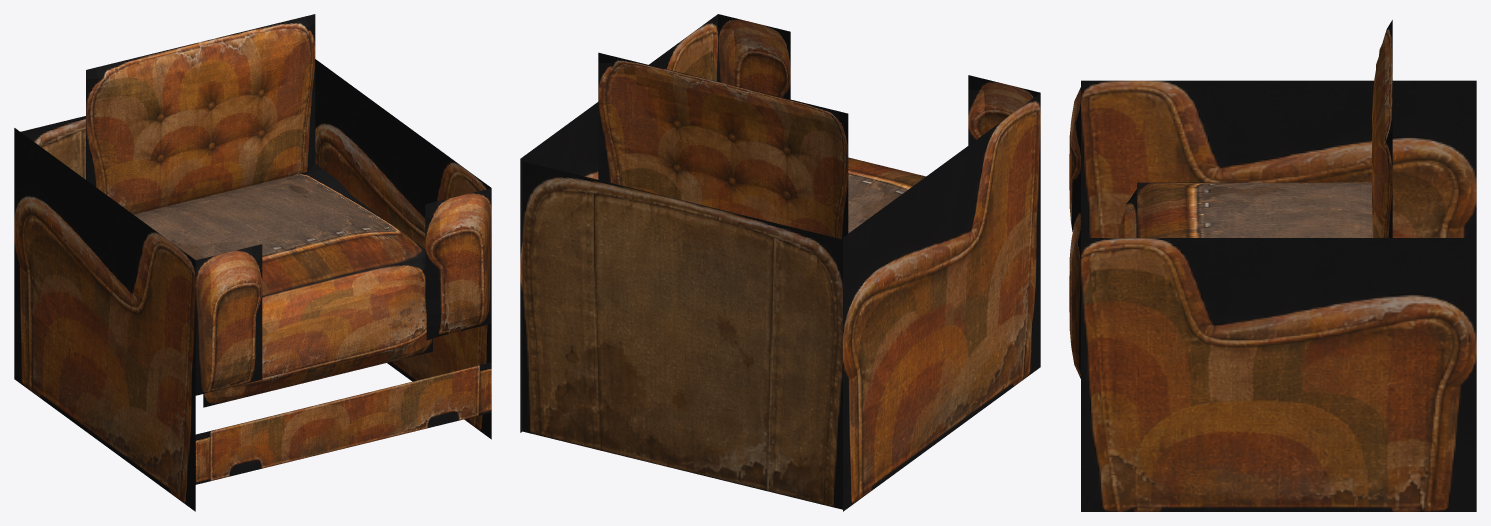
The model's file is bench_b_armchair.glb.
3 renders of one model, left to right at view 1: azimuth 30°, elevation 25°; view 2: azimuth 150°, elevation 25°; view 3: azimuth 270°, elevation 25°, orthographic. The views are drawn at different scales.
Parts seen in each view (by area): view 1: bench_b_armchair_side_left, bench_b_armchair_back_front, bench_b_armchair_seat_top, bench_b_armchair_side_right, bench_b_armchair_seat_front, bench_b_armchair_skirt_front, bench_b_armchair_arm_front_left, bench_b_armchair_arm_front_right, bench_b_armchair_back_rear; view 2: bench_b_armchair_back_rear, bench_b_armchair_side_left, bench_b_armchair_back_front, bench_b_armchair_side_right, bench_b_armchair_arm_front_right, bench_b_armchair_seat_top, bench_b_armchair_arm_front_left; view 3: bench_b_armchair_side_right, bench_b_armchair_side_left, bench_b_armchair_seat_top, bench_b_armchair_back_front, bench_b_armchair_arm_front_right, bench_b_armchair_arm_front_left, bench_b_armchair_seat_front.
Boxes of the visible parts, bbox=[...] form: bench_b_armchair_side_left: bbox=[14, 128, 195, 511]; bench_b_armchair_back_front: bbox=[86, 14, 315, 214]; bench_b_armchair_seat_top: bbox=[133, 163, 425, 296]; bench_b_armchair_side_right: bbox=[315, 59, 491, 439]; bench_b_armchair_seat_front: bbox=[203, 257, 432, 407]; bench_b_armchair_skirt_front: bbox=[195, 362, 491, 484]; bench_b_armchair_arm_front_left: bbox=[195, 244, 262, 395]; bench_b_armchair_arm_front_right: bbox=[425, 188, 491, 340]; bench_b_armchair_back_rear: bbox=[20, 116, 85, 179]; bench_b_armchair_back_rear: bbox=[522, 161, 842, 509]; bench_b_armchair_side_left: bbox=[843, 93, 1040, 511]; bench_b_armchair_back_front: bbox=[598, 52, 848, 239]; bench_b_armchair_side_right: bbox=[520, 14, 717, 432]; bench_b_armchair_arm_front_right: bbox=[718, 14, 790, 99]; bench_b_armchair_seat_top: bbox=[848, 157, 925, 233]; bench_b_armchair_arm_front_left: bbox=[968, 75, 1040, 145]; bench_b_armchair_side_right: bbox=[1081, 238, 1476, 511]; bench_b_armchair_side_left: bbox=[1081, 80, 1476, 237]; bench_b_armchair_seat_top: bbox=[1137, 182, 1373, 237]; bench_b_armchair_back_front: bbox=[1372, 20, 1392, 237]; bench_b_armchair_arm_front_right: bbox=[1069, 209, 1080, 378]; bench_b_armchair_arm_front_left: bbox=[1069, 87, 1080, 231]; bench_b_armchair_seat_front: bbox=[1118, 189, 1136, 237].
Size of the model in its own units: 0.8 by 0.85 by 0.8751.
1 material, 1 textured.
